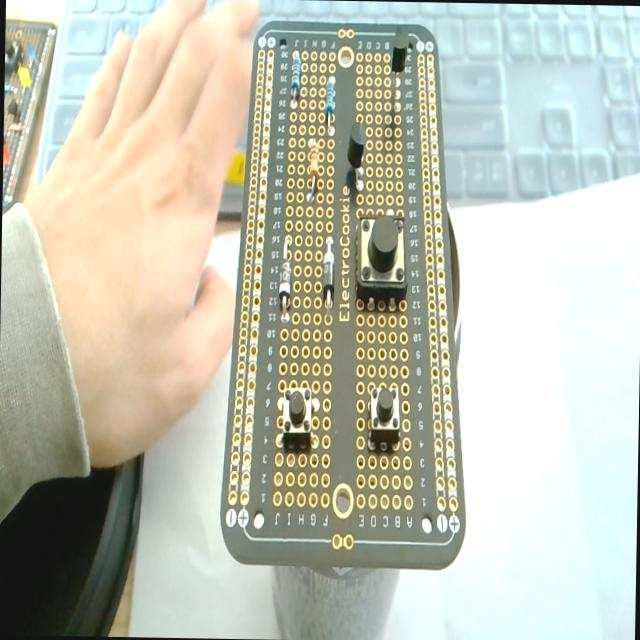diode: (278, 238, 292, 321), (322, 234, 334, 309)
resistor: (317, 69, 341, 135), (306, 138, 321, 202), (290, 50, 301, 99)
switch: (354, 212, 407, 308), (280, 384, 314, 449), (368, 384, 400, 451)
transistor: (388, 26, 409, 118), (347, 120, 368, 195)
